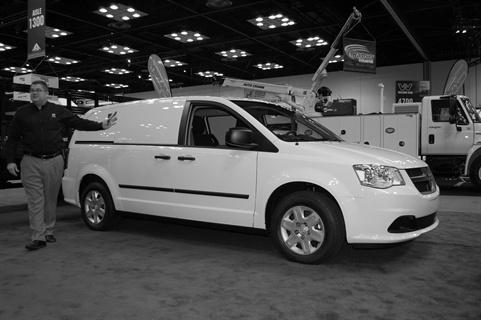car: (59, 95, 443, 273)
